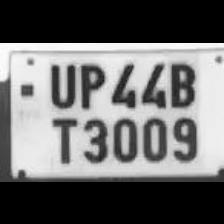0: (108, 110, 138, 162), (138, 111, 168, 161)
3: (77, 111, 109, 163)
4: (106, 54, 140, 106), (137, 54, 167, 106)
9: (168, 110, 200, 162)
B: (164, 56, 198, 106)
P: (74, 56, 106, 108)
T: (43, 112, 79, 164)
U: (43, 57, 76, 106)
